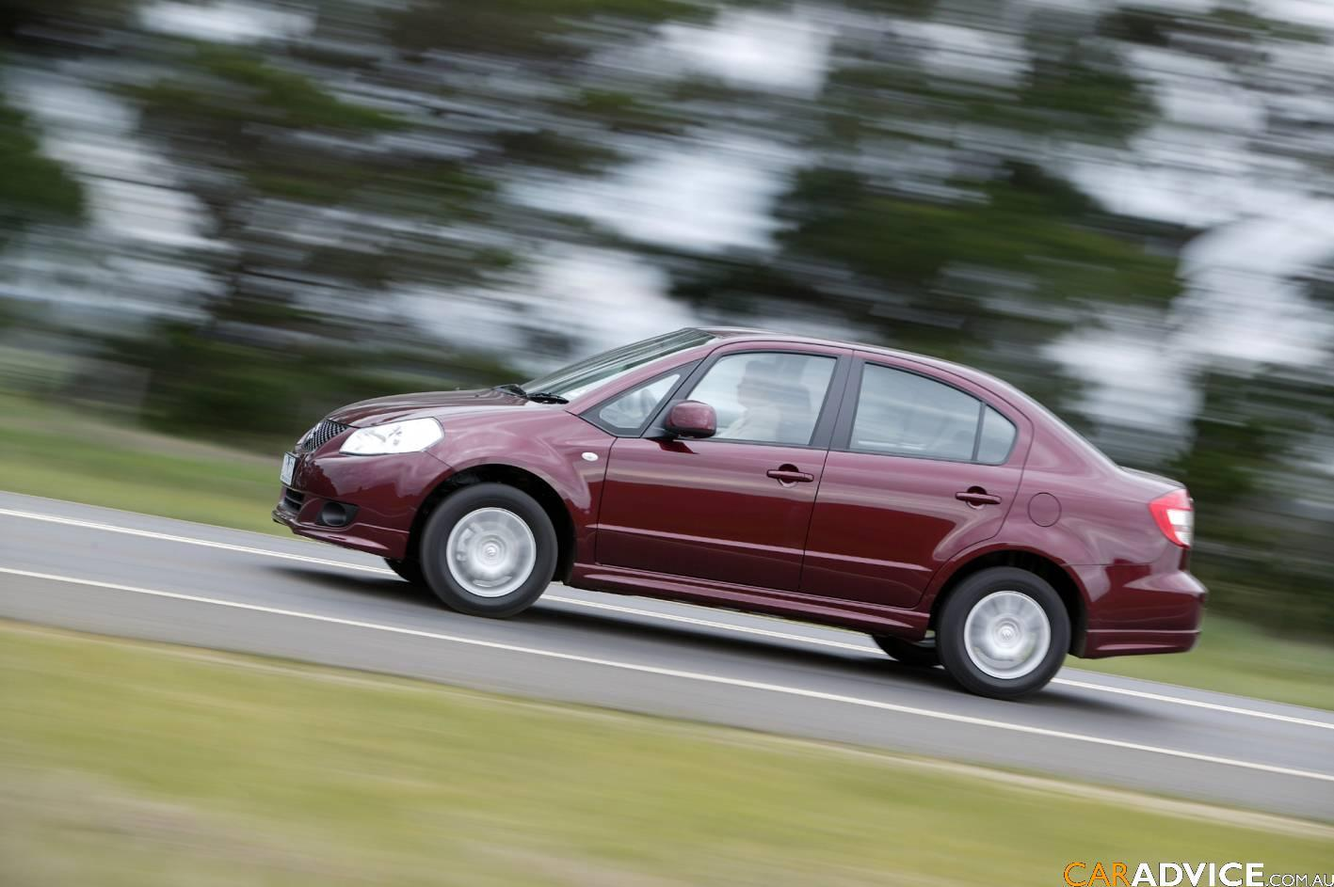Sedan: (270, 324, 1208, 700)
